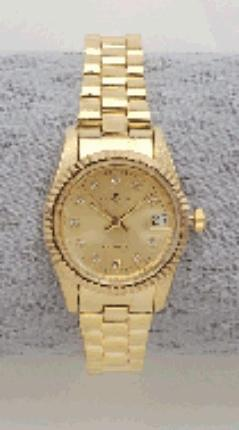watch: (46, 127, 212, 354)
